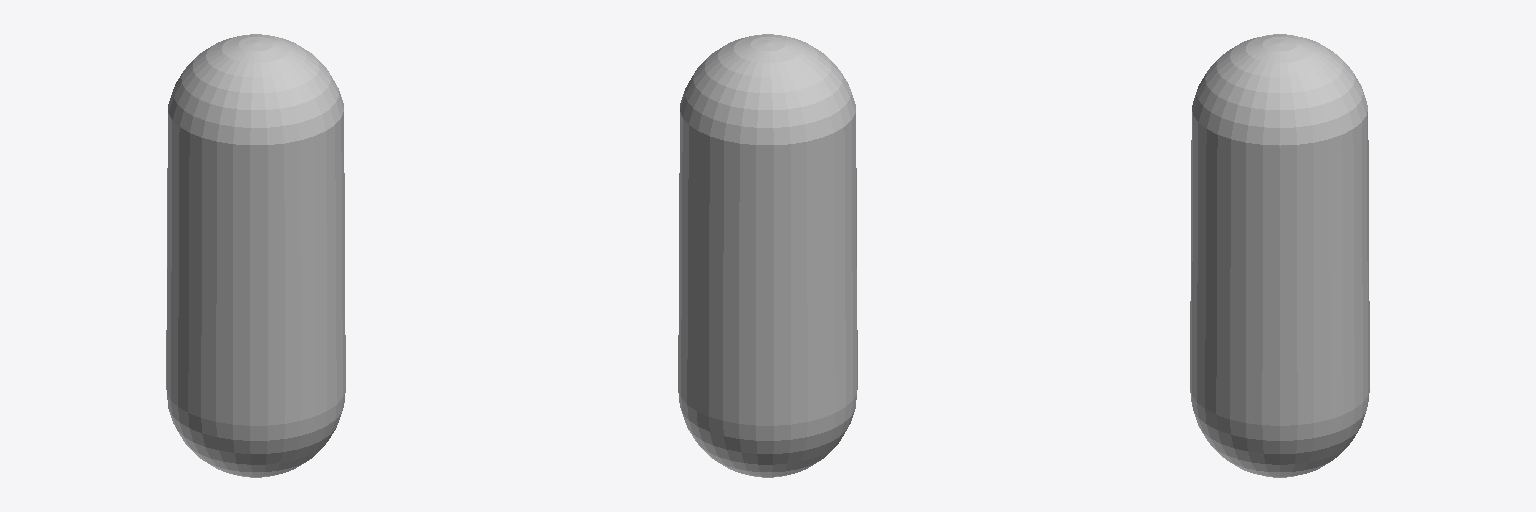
The model's file is charactercapsule.obj.
3 renders of one model, left to right at view 1: azimuth 30°, elevation 25°; view 2: azimuth 150°, elevation 25°; view 3: azimuth 270°, elevation 25°, orthographic.
Parts seen in each view (by area): view 1: Sphere; view 2: Sphere; view 3: Sphere.
Boxes of the visible parts, x1=… form: Sphere: x1=166, y1=34, x2=345, y2=477; Sphere: x1=678, y1=34, x2=857, y2=477; Sphere: x1=1190, y1=34, x2=1369, y2=477.
Size of the model in its own units: 2 by 5.23 by 2.